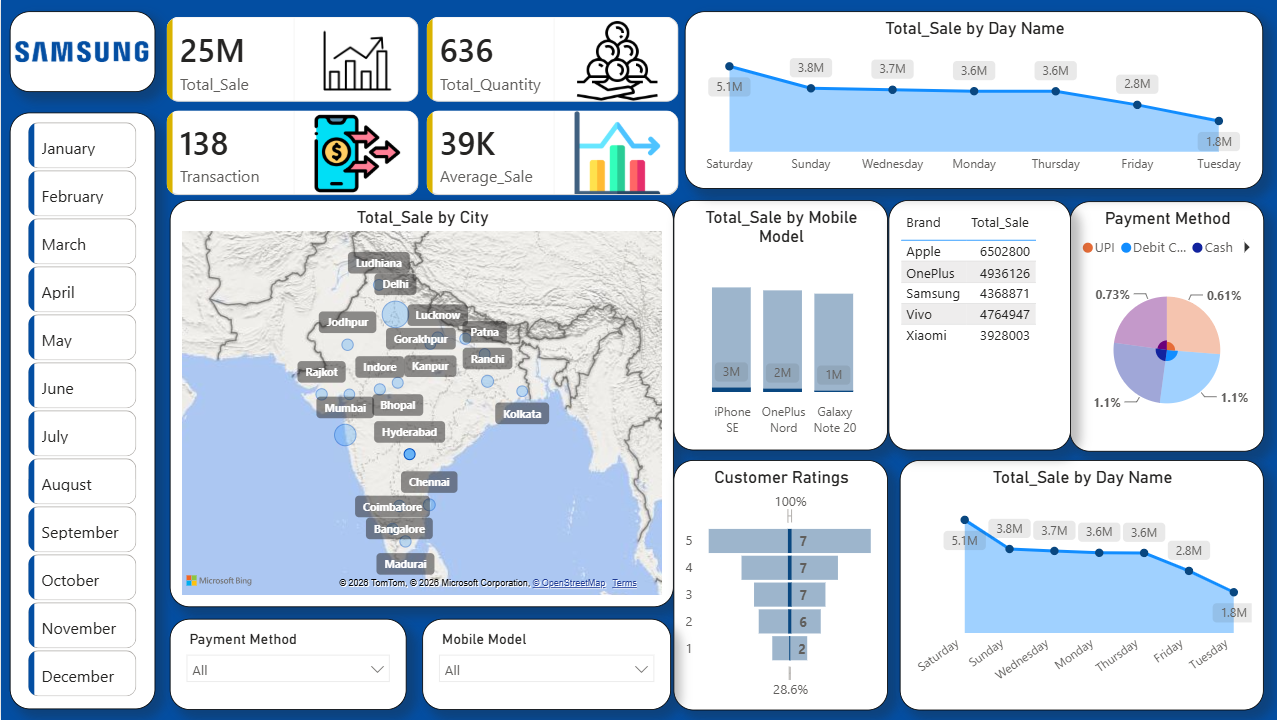

What the dashboard file says about the page in this screenshot:
{"tool":"powerbi","page":{"name":"Page 1","canvas":[1280,720],"ordinal":0},"visuals":[{"type":"shape","box":[8.2,11,145.5,81],"z":0},{"type":"image","box":[13.7,11,134.5,81],"z":1000},{"type":"shape","box":[8.2,112.5,145.5,596.9],"z":2000},{"type":"advancedSlicerVisual","fields":{"Values":["Mobile_Sales_Data.Date.Variation.Date Hierarchy.Month"]},"box":[22,118,118,585.9],"z":3000},{"type":"cardVisual","fields":{"Data":["Mobile_Sales_Data.Total_Sale","Mobile_Sales_Data.Total_Quantity","Mobile_Sales_Data.Transaction","Mobile_Sales_Data.Average"]},"box":[148.8,0,546.2,213.8],"z":4000},{"type":"map","fields":{"Category":["Mobile_Sales_Data.City"],"Size":["Mobile_Sales_Data.Total_Sale"]},"box":[168.6,200,504.3,407.1],"z":5000},{"type":"clusteredColumnChart","fields":{"Y":["Mobile_Sales_Data.Total_Sale"],"Category":["Mobile_Sales_Data.Mobile Model"]},"box":[672.9,200,214.3,250],"z":6000},{"type":"pieChart","title":"Payment Method","fields":{"Category":["Mobile_Sales_Data.Payment Method"],"Y":["Mobile_Sales_Data.Transaction"]},"box":[1068.6,201.4,194.3,250],"z":7000},{"type":"funnel","title":"Customer Ratings","fields":{"Category":["Mobile_Sales_Data.Customer Ratings"],"Y":["CountNonNull(Mobile_Sales_Data.Customer Ratings)"]},"box":[672.9,460,214.3,250],"z":8000},{"type":"areaChart","fields":{"Category":["Mobile_Sales_Data.Day Name"],"Y":["Mobile_Sales_Data.Total_Sale"]},"box":[899,460,364,250],"z":9000},{"type":"tableEx","fields":{"Values":["Mobile_Sales_Data.Brand","Mobile_Sales_Data.Total_Sale"]},"box":[887,200,182,250],"z":10000},{"type":"slicer","fields":{"Values":["Mobile_Sales_Data.Mobile Model"]},"box":[421.4,618.6,248.6,91.4],"z":11000},{"type":"slicer","fields":{"Values":["Mobile_Sales_Data.Payment Method"]},"box":[168.6,618.6,237.1,91.4],"z":12000},{"type":"areaChart","fields":{"Category":["Mobile_Sales_Data.Day Name"],"Y":["Mobile_Sales_Data.Total_Sale"]},"box":[683.8,11.2,578.8,177.5],"z":13000}]}

Visuals, with their boxes in screenshot pixels (x1, y1, x2, y2), scaled from the page's 1280x720 canvas onto the 1277x720 screenshot:
shape: l=8, t=11, r=153, b=92
image: l=14, t=11, r=148, b=92
shape: l=8, t=112, r=153, b=709
advancedSlicerVisual - Mobile_Sales_Data.Date.Variation.Date Hierarchy.Month: l=22, t=118, r=140, b=704
cardVisual - Mobile_Sales_Data.Total_Sale x Mobile_Sales_Data.Total_Quantity: l=148, t=0, r=693, b=214
map - Mobile_Sales_Data.City x Mobile_Sales_Data.Total_Sale: l=168, t=200, r=671, b=607
clusteredColumnChart - Mobile_Sales_Data.Total_Sale x Mobile_Sales_Data.Mobile Model: l=671, t=200, r=885, b=450
"Payment Method" pieChart: l=1066, t=201, r=1260, b=451
"Customer Ratings" funnel: l=671, t=460, r=885, b=710
areaChart - Mobile_Sales_Data.Day Name x Mobile_Sales_Data.Total_Sale: l=897, t=460, r=1260, b=710
tableEx - Mobile_Sales_Data.Brand x Mobile_Sales_Data.Total_Sale: l=885, t=200, r=1066, b=450
slicer - Mobile_Sales_Data.Mobile Model: l=420, t=619, r=668, b=710
slicer - Mobile_Sales_Data.Payment Method: l=168, t=619, r=405, b=710
areaChart - Mobile_Sales_Data.Day Name x Mobile_Sales_Data.Total_Sale: l=682, t=11, r=1260, b=189
